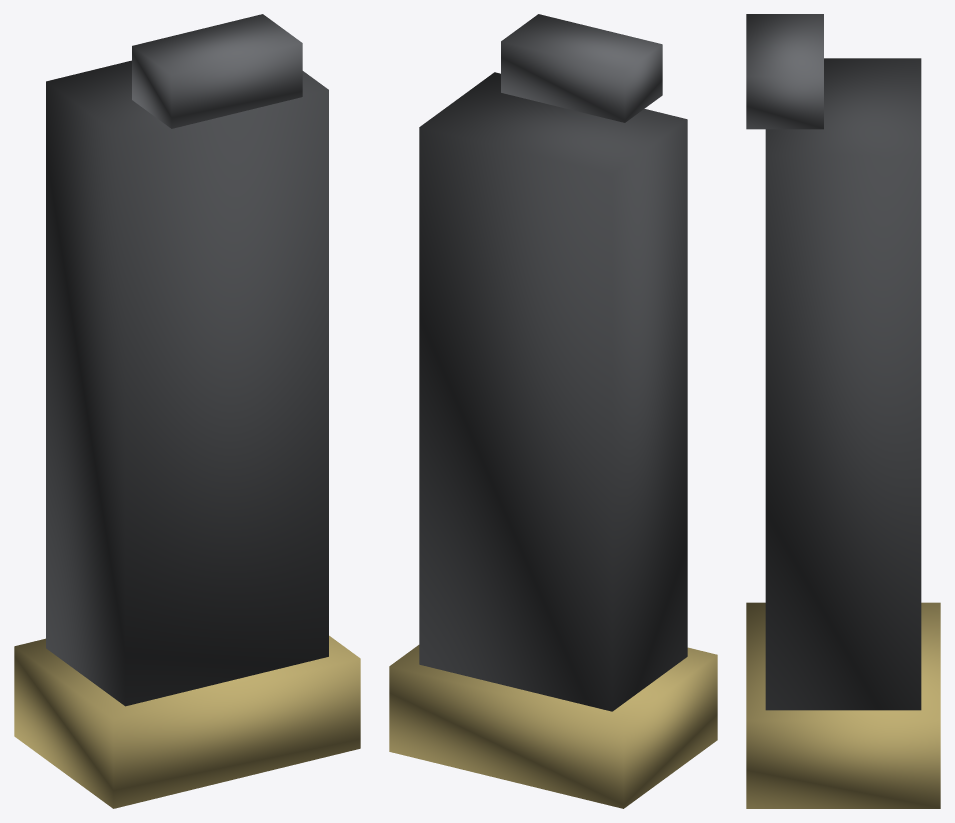
Rendered from dock_bumper_09.glb.
The picture shows the model from 3 angles, left to right: view 1: azimuth 30°, elevation 25°; view 2: azimuth 150°, elevation 25°; view 3: azimuth 270°, elevation 25°; orthographic projection. The views are drawn at different scales.
Parts seen in each view (by area): view 1: world; view 2: world; view 3: world.
Boxes of the visible parts, left/top/right/bottom form: world: left=14, top=14, right=360, bottom=808; world: left=389, top=14, right=717, bottom=808; world: left=746, top=14, right=940, bottom=808.
Size of the model in its own units: 0.2992 by 0.832 by 0.208.
